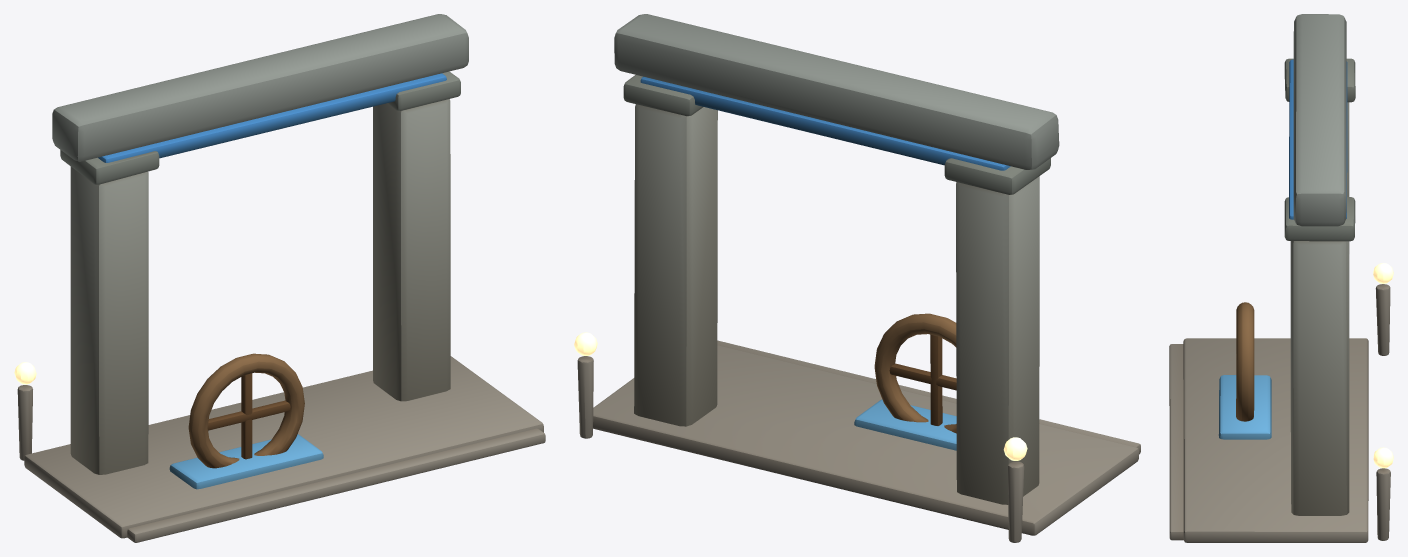
The picture shows the model from 3 angles, left to right: view 1: azimuth 30°, elevation 25°; view 2: azimuth 150°, elevation 25°; view 3: azimuth 270°, elevation 25°; orthographic projection. The views are drawn at different scales.
Visible parts, largest first — view 1: gate_315092b0; view 2: gate_315092b0; view 3: gate_315092b0.
Boxes of the visible parts, x1=… form: gate_315092b0: x1=14, y1=14, x2=545, y2=542; gate_315092b0: x1=574, y1=14, x2=1140, y2=542; gate_315092b0: x1=1169, y1=14, x2=1393, y2=542.
Size of the model in its own units: 5.23 by 4.34 by 2.55.
